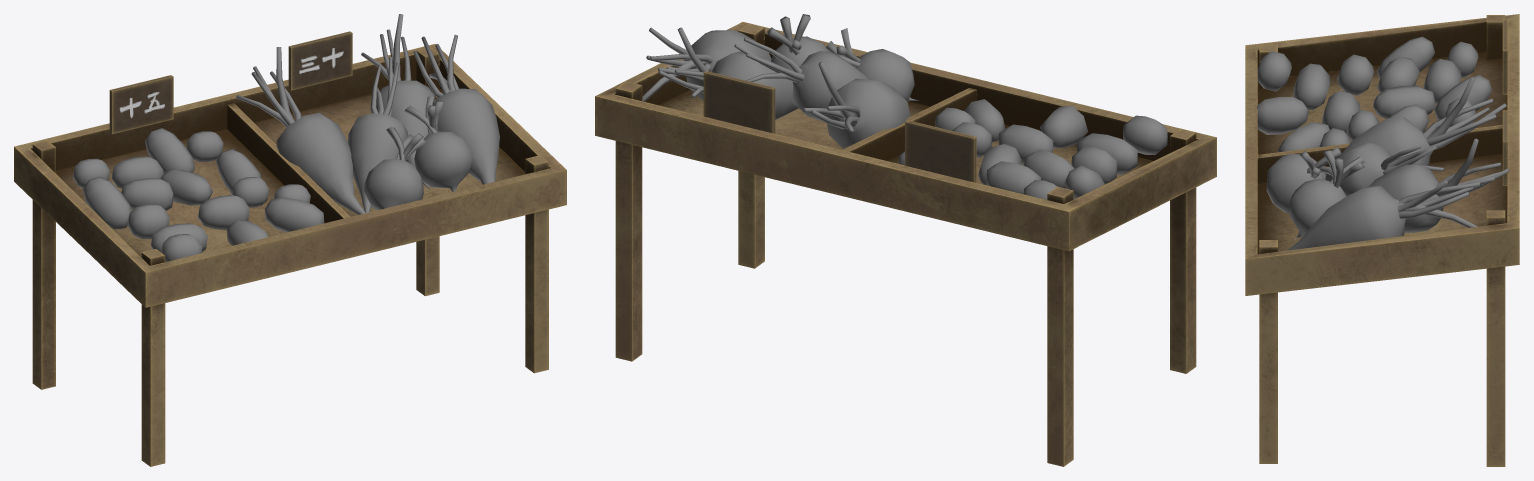
Rendered from SM_markettable_01.fbx.
3 renders of one model, left to right at view 1: azimuth 30°, elevation 25°; view 2: azimuth 150°, elevation 25°; view 3: azimuth 270°, elevation 25°, orthographic. The views are drawn at different scales.
Visible parts, largest first — view 1: Object32453; view 2: Object32453; view 3: Object32453.
Part boxes in pixels (x1,y1,x2,y2): Object32453: [14, 14, 566, 466]; Object32453: [595, 14, 1216, 466]; Object32453: [1245, 14, 1519, 466].
Bounding box in the file's own units: 75.31 × 50.12 × 40.72.
